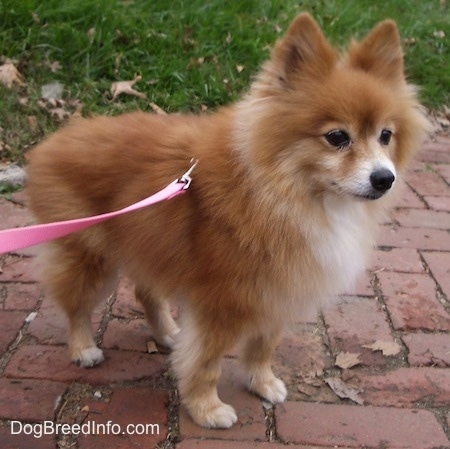pomeranian: (24, 14, 432, 425)
